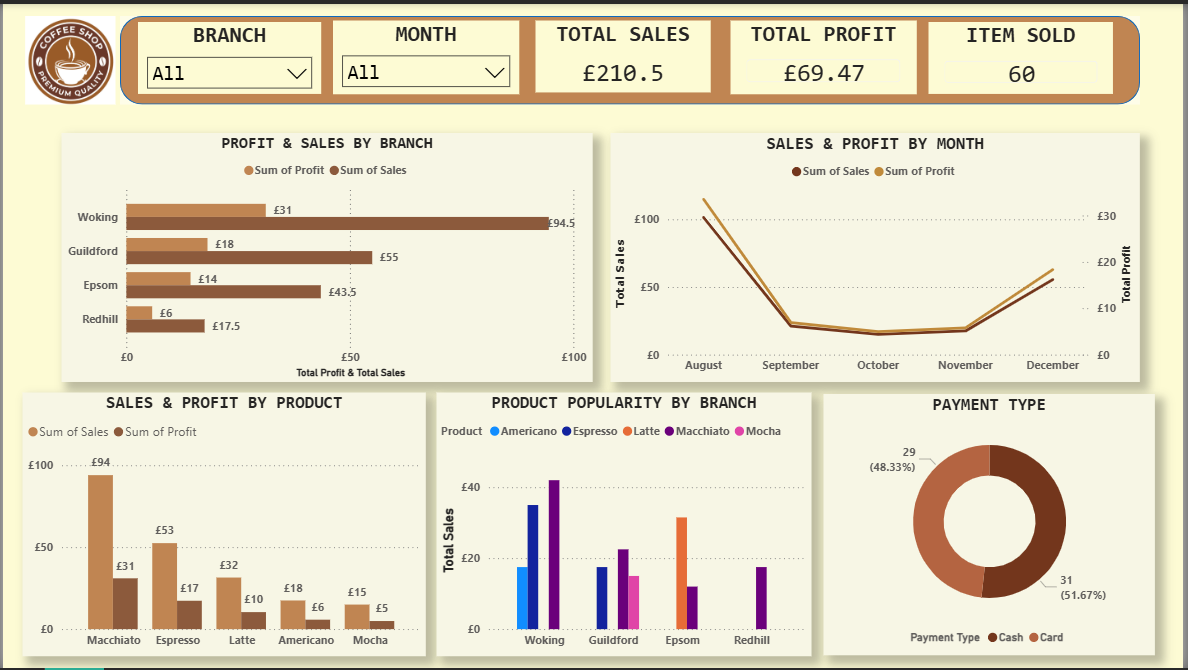

The dashboard page shown, as its layout file describes it:
{"tool":"powerbi","page":{"name":"Page 1","canvas":[1280,720],"ordinal":0},"visuals":[{"type":"image","box":[0,13,146.4,96],"z":0},{"type":"shape","box":[126.9,13,1106.1,96],"z":1000},{"type":"slicer","title":"BRANCH","fields":{"Values":["cafe_sales_cleaned.Branch"]},"box":[146.4,19.5,198.4,78.1],"z":2000},{"type":"slicer","title":"MONTH","fields":{"Values":["cafe_sales_cleaned.Month"]},"box":[357.8,17.9,201.7,79.7],"z":3000},{"type":"cardVisual","title":"TOTAL SALES","fields":{"Data":["Sum(cafe_sales_cleaned.Sales)"]},"box":[577.4,17.9,190.3,78.1],"z":4000},{"type":"cardVisual","title":"TOTAL PROFIT","fields":{"Data":["Sum(cafe_sales_cleaned.Profit)"]},"box":[788.9,17.9,201.7,79.7],"z":5000},{"type":"cardVisual","title":"ITEM SOLD","fields":{"Data":["cafe_sales_cleaned.Transaction Count"]},"box":[1003.6,19.5,200.1,78.1],"z":6001},{"type":"clusteredBarChart","title":"PROFIT & SALES BY BRANCH","fields":{"Category":["cafe_sales_cleaned.Branch"],"Y":["Sum(cafe_sales_cleaned.Profit)","Sum(cafe_sales_cleaned.Sales)"]},"box":[63.4,139.9,575.8,270],"z":6002},{"type":"lineChart","title":"SALES & PROFIT  BY MONTH","fields":{"Category":["cafe_sales_cleaned.Date/Time.Variation.Date Hierarchy.Month"],"Y":["Sum(cafe_sales_cleaned.Sales)"],"Y2":["Sum(cafe_sales_cleaned.Profit)"]},"box":[658.8,139.9,574.2,270],"z":6003},{"type":"clusteredColumnChart","title":"SALES & PROFIT BY PRODUCT","fields":{"Category":["cafe_sales_cleaned.Product"],"Y":["Sum(cafe_sales_cleaned.Sales)","Sum(cafe_sales_cleaned.Profit)"]},"box":[21.1,421.3,437.5,286.3],"z":6004},{"type":"clusteredColumnChart","title":"PRODUCT POPULARITY BY BRANCH","fields":{"Category":["cafe_sales_cleaned.Branch"],"Y":["Sum(cafe_sales_cleaned.Sales)"],"Series":["cafe_sales_cleaned.Product"]},"box":[470.1,421.3,406.6,286.3],"z":6005},{"type":"donutChart","title":"PAYMENT TYPE","fields":{"Category":["cafe_sales_cleaned.Payment Type"],"Y":["cafe_sales_cleaned.Transaction Count"]},"box":[889.7,422.9,359.5,283],"z":6006}]}

Visuals, with their boxes in screenshot pixels (x1, y1, x2, y2), scaled from the page's 1280x720 canvas onto the 1188x670 screenshot:
image: Rect(0, 12, 136, 101)
shape: Rect(118, 12, 1144, 101)
"BRANCH" slicer: Rect(136, 18, 320, 91)
"MONTH" slicer: Rect(332, 17, 519, 91)
"TOTAL SALES" cardVisual: Rect(536, 17, 713, 89)
"TOTAL PROFIT" cardVisual: Rect(732, 17, 919, 91)
"ITEM SOLD" cardVisual: Rect(931, 18, 1117, 91)
"PROFIT & SALES BY BRANCH" clusteredBarChart: Rect(59, 130, 593, 381)
"SALES & PROFIT  BY MONTH" lineChart: Rect(611, 130, 1144, 381)
"SALES & PROFIT BY PRODUCT" clusteredColumnChart: Rect(20, 392, 426, 658)
"PRODUCT POPULARITY BY BRANCH" clusteredColumnChart: Rect(436, 392, 814, 658)
"PAYMENT TYPE" donutChart: Rect(826, 394, 1159, 657)
